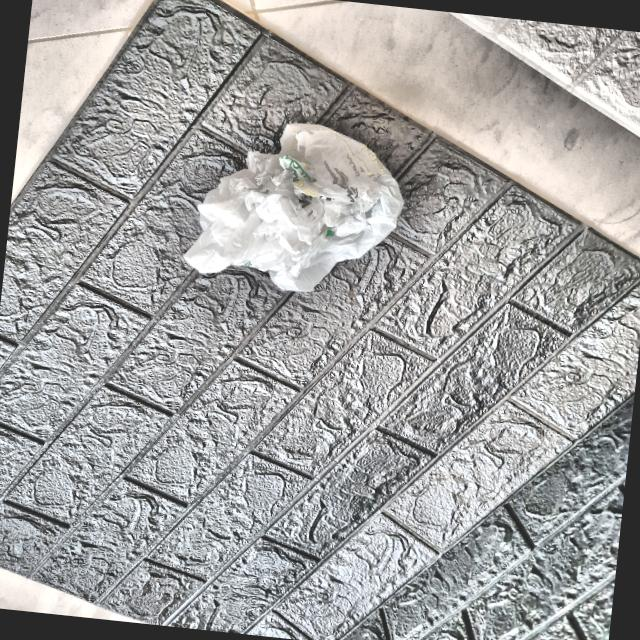plastic bag: (182, 114, 411, 304)
